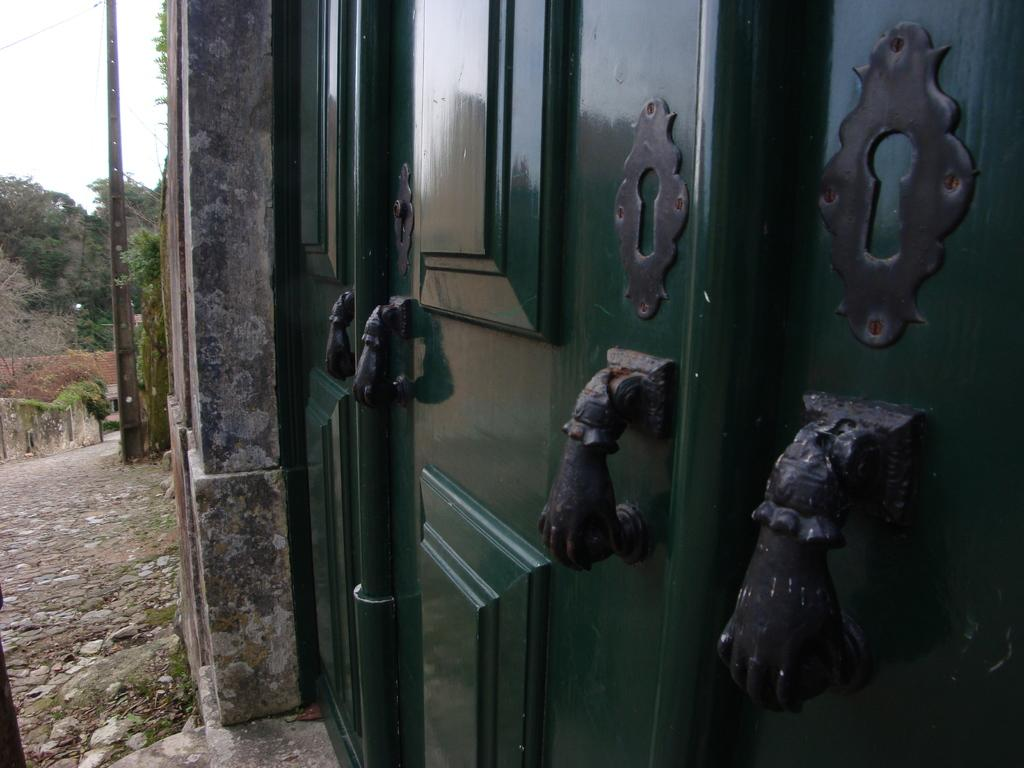handle: (754, 486, 872, 712), (548, 397, 634, 574), (356, 306, 414, 414), (322, 296, 354, 402)
